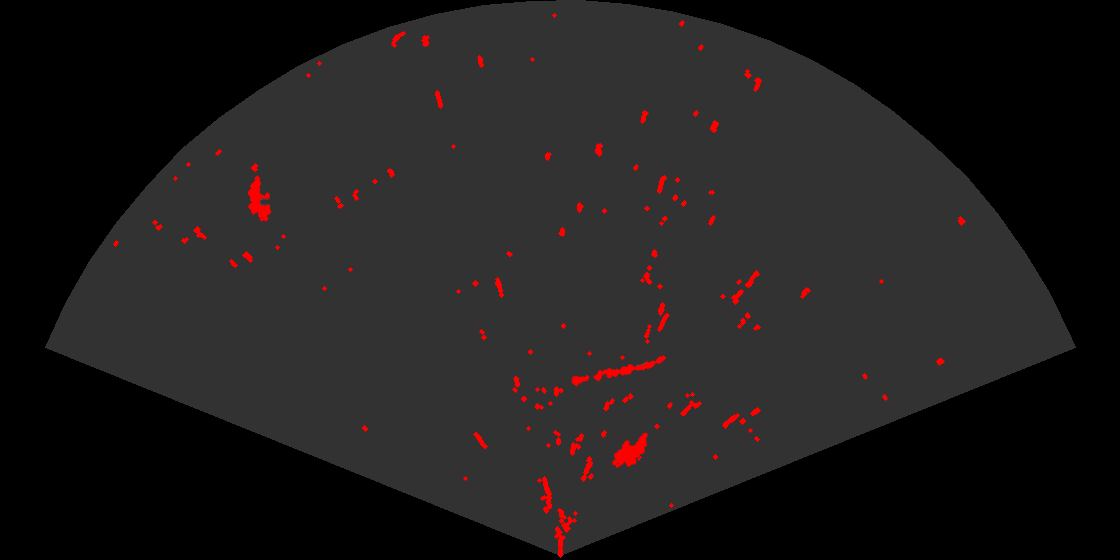AUV: (611, 431, 649, 469), (246, 174, 273, 223)
chain: (569, 354, 668, 388)
